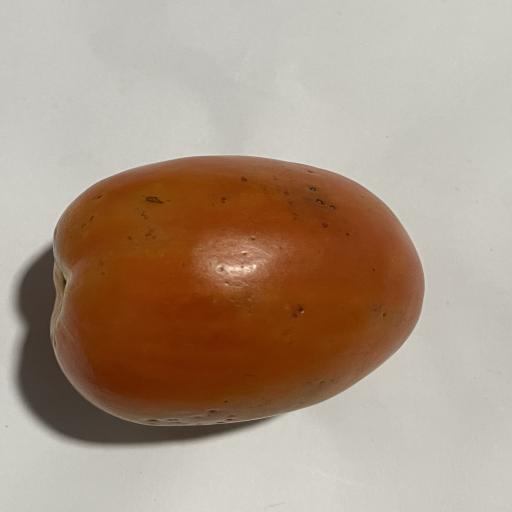unripe: (51, 156, 424, 426)
